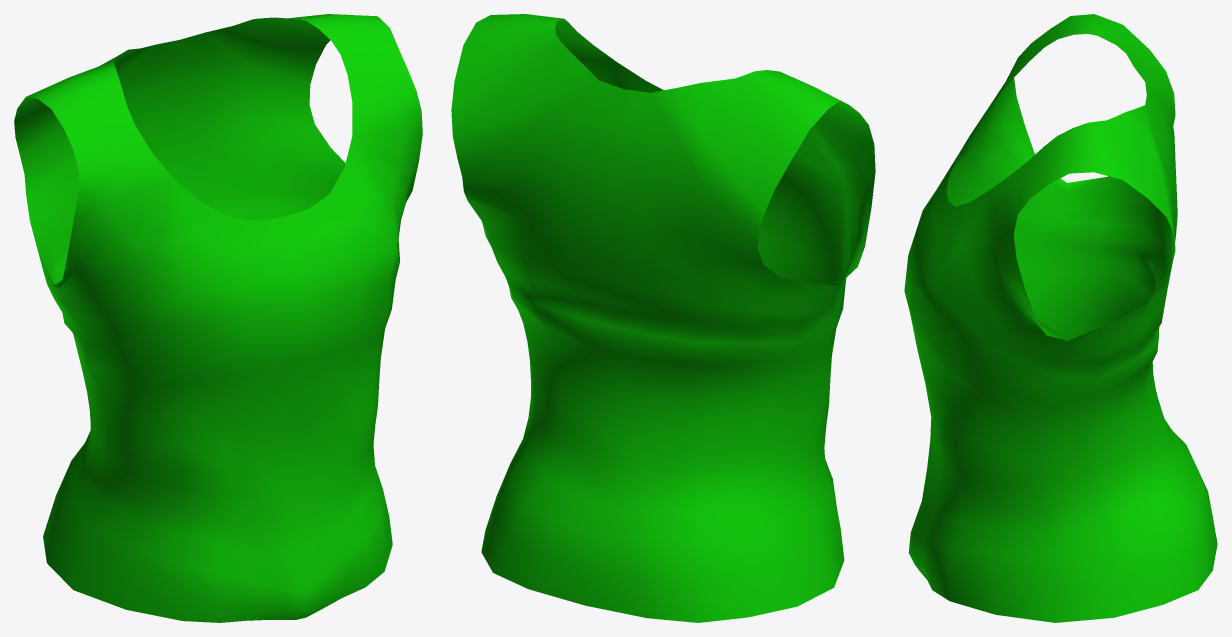
The model's file is smooth jersey skin.obj.
3 views of the same model, side by side, from view 1: azimuth 30°, elevation 25°; view 2: azimuth 150°, elevation 25°; view 3: azimuth 270°, elevation 25° (orthographic). The views are drawn at different scales.
Parts seen in each view (by area): view 1: GenericMesh3; view 2: GenericMesh3; view 3: GenericMesh3.
Boxes of the visible parts, x1=… form: GenericMesh3: x1=14, y1=14, x2=422, y2=622; GenericMesh3: x1=451, y1=14, x2=875, y2=622; GenericMesh3: x1=904, y1=14, x2=1217, y2=622.
Size of the model in its own units: 7.55 by 10.46 by 6.13.
